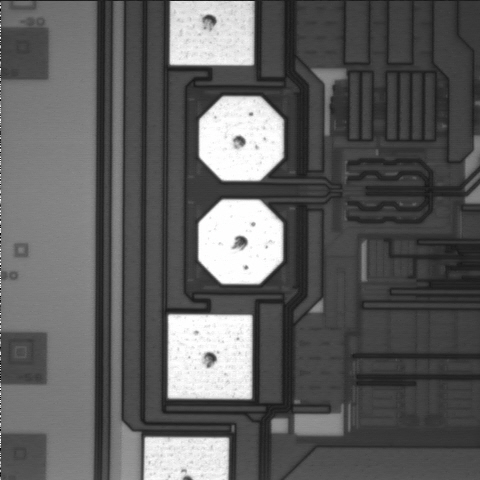pad: (199, 96, 284, 181), (198, 199, 283, 284), (168, 314, 252, 399)
